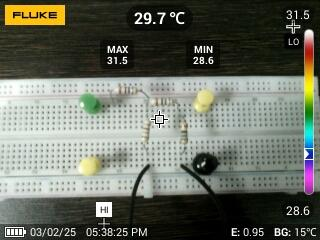resistor: (137, 117, 153, 146), (177, 119, 191, 146), (147, 97, 176, 109), (113, 85, 140, 97)
